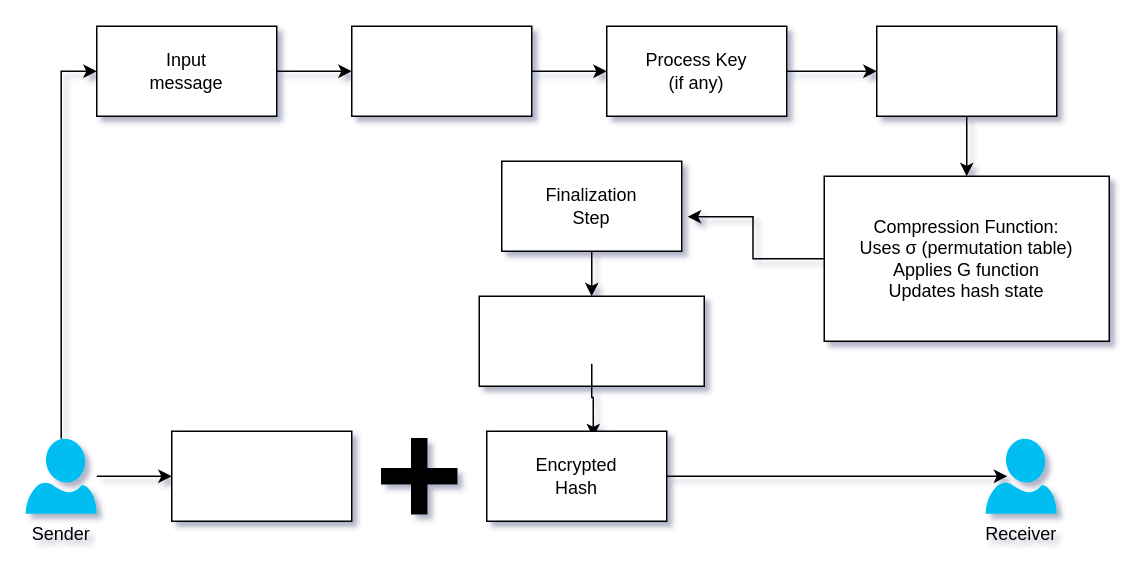
Some shapes in this 1145 by 581 pixel diagram are drawn without their labels. The box of each missing label's shape, as (x1, y1, x2, y2) in pixels:
Encrypted Message: (170, 430, 352, 521)
Initialize State with IV Constants: (350, 25, 532, 116)
Message Blocks (128 bytes): (875, 25, 1057, 116)
Output Digest H (Final 64-byte hash): (478, 295, 704, 386)
